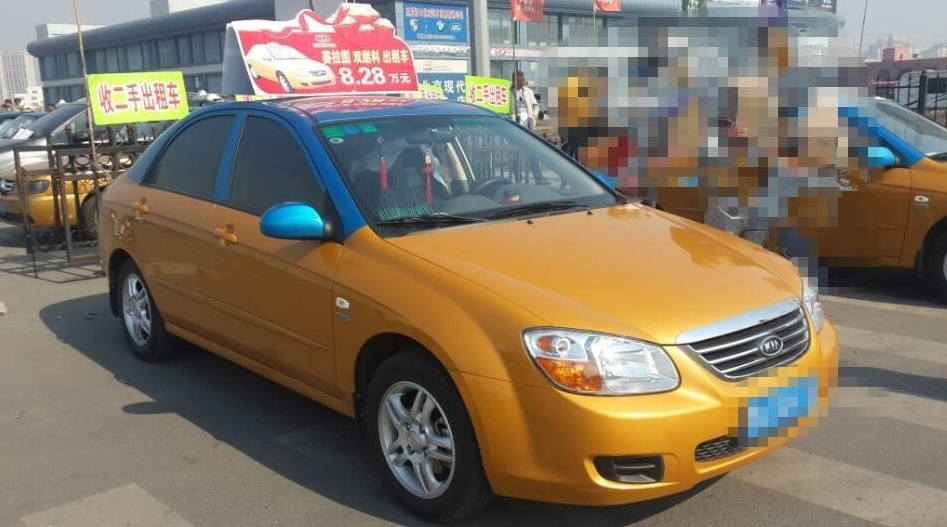family sedan: (97, 72, 823, 499)
